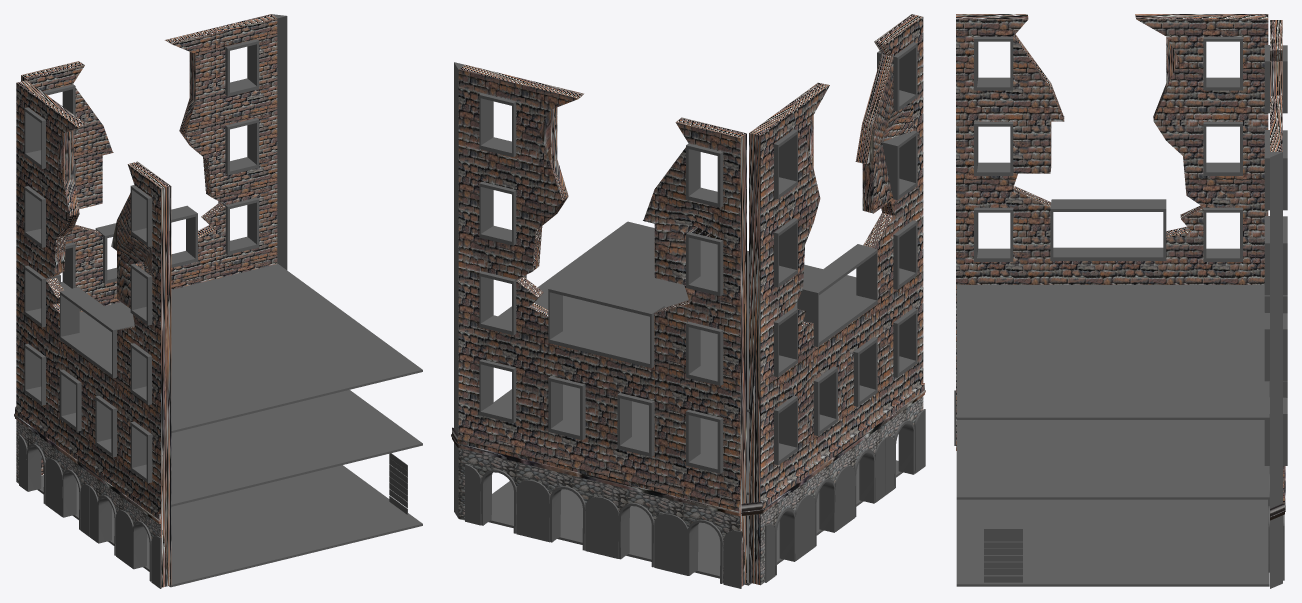
The model's file is Building.dae.
3 views of the same model, side by side, from view 1: azimuth 30°, elevation 25°; view 2: azimuth 150°, elevation 25°; view 3: azimuth 270°, elevation 25° (orthographic). The views are drawn at different scales.
Parts seen in each view (by area): view 1: Wall_Wall2_ncl1_1, pCube3, Wall_Wall2, pCube1, pCube2, polySurface5_ncl1_1, Corner_Piece, Window_Frames1_ncl1_7, Window_Frames1_ncl1_5, Window_Frames1_ncl1_4, Window_Frames1_ncl1_3, Window_Frames1 (+11 smaller); view 2: Wall_Wall2, Wall_Wall2_ncl1_1, pCube3, pCube1, polySurface5_ncl1_1, polySurface5, Window_Frames1_ncl1_5, Window_Frames1_ncl1_3, Window_Frames1, Window_Frames1_ncl1_1, Window_Frames1_ncl1_4, Window_Frames1_ncl1_7 (+31 smaller); view 3: pCube3, Wall_Wall2_ncl1_1, pCube1, pCube2, Corner_Piece, polySurface5_ncl1_1, Window_Frames1_ncl1_7, Window_Frames1_ncl1_4, Window_Frames1_ncl1_5, Wall_Wall2, Window_Frames1, Window_Frames1_ncl1_1 (+2 smaller).
Part boxes in pixels (x1,y1,x2,y2): Wall_Wall2_ncl1_1: (14,80,171,587); pCube3: (79,264,422,433); Wall_Wall2: (21,14,277,474); pCube1: (37,465,422,587); pCube2: (171,390,422,506); polySurface5_ncl1_1: (60,287,131,378); Corner_Piece: (272,14,287,269); Window_Frames1_ncl1_7: (24,265,151,404); Window_Frames1_ncl1_5: (24,186,152,325); Window_Frames1_ncl1_4: (24,107,152,246); Window_Frames1_ncl1_3: (61,197,259,290); Window_Frames1: (42,39,259,134); Wall_Wall2: (451,64,746,586); Wall_Wall2_ncl1_1: (741,14,925,585); pCube3: (498,221,856,412); pCube1: (488,460,902,585); polySurface5_ncl1_1: (797,244,877,346); polySurface5: (548,280,664,368); Window_Frames1_ncl1_5: (774,130,917,287); Window_Frames1_ncl1_3: (479,271,723,385); Window_Frames1: (479,93,723,207); Window_Frames1_ncl1_1: (479,181,723,296); Window_Frames1_ncl1_4: (774,42,917,198); Window_Frames1_ncl1_7: (774,220,917,377); pCube3: (956,285,1269,419); Wall_Wall2_ncl1_1: (956,14,1268,450); pCube1: (956,499,1269,586); pCube2: (956,420,1269,499); Corner_Piece: (1270,152,1282,588); polySurface5_ncl1_1: (1050,199,1166,260); Window_Frames1_ncl1_7: (974,207,1242,261); Window_Frames1_ncl1_4: (974,36,1242,90); Window_Frames1_ncl1_5: (974,121,1242,175); Wall_Wall2: (1270,20,1285,520); Window_Frames1: (1264,44,1287,210); Window_Frames1_ncl1_1: (1264,129,1287,295).
Bounding box in the file's own units: 27.23 × 37.59 × 26.15.
